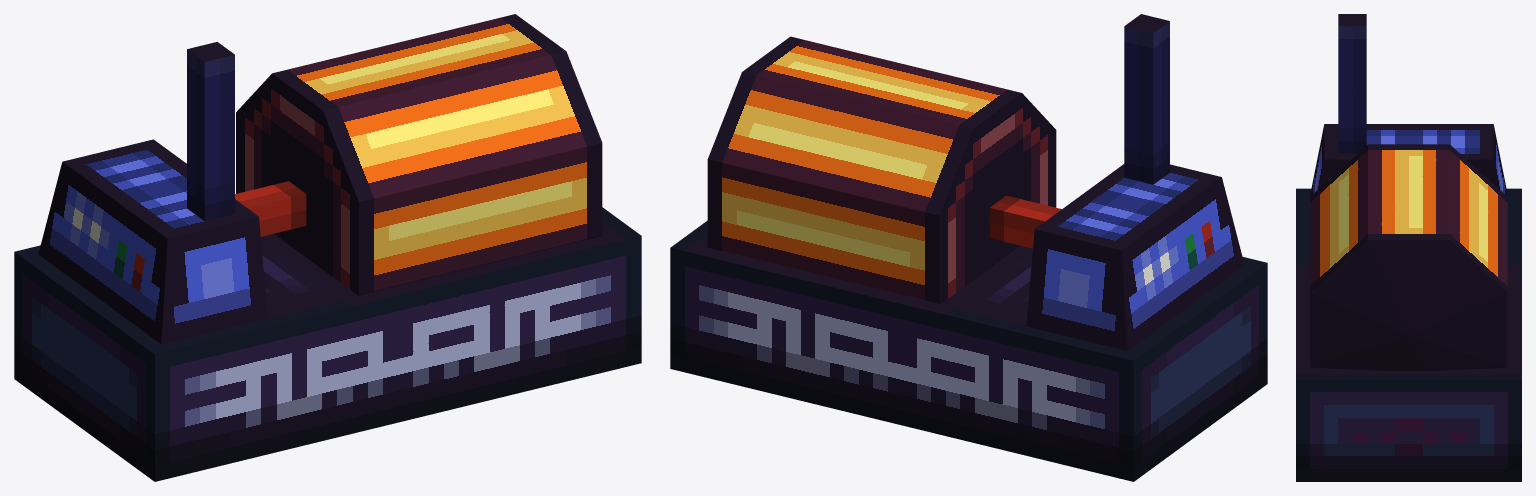
The model's file is generator_small.glb.
The picture shows the model from 3 angles, left to right: view 1: azimuth 30°, elevation 25°; view 2: azimuth 150°, elevation 25°; view 3: azimuth 270°, elevation 25°; orthographic projection. The views are drawn at different scales.
Visible parts, largest first — view 1: base_2, barrel_0, cpanel_3, exaust_5, feed_4; view 2: base_2, barrel_0, cpanel_3, exaust_5, feed_4; view 3: barrel_0, base_2, cpanel_3, exaust_5.
Part boxes in pixels (<box>): base_2: <box>14,207,641,481</box>; barrel_0: <box>236,14,602,295</box>; cpanel_3: <box>38,139,267,344</box>; exaust_5: <box>187,42,234,221</box>; feed_4: <box>235,181,306,236</box>; base_2: <box>670,220,1267,481</box>; barrel_0: <box>707,36,1056,304</box>; cpanel_3: <box>1026,164,1244,350</box>; exaust_5: <box>1124,14,1169,184</box>; feed_4: <box>989,195,1061,248</box>; barrel_0: <box>1310,144,1507,370</box>; base_2: <box>1296,188,1521,481</box>; cpanel_3: <box>1310,124,1507,196</box>; exaust_5: <box>1338,14,1366,153</box>.
Bounding box in the file's own units: 2 × 1.5 × 1.
1 material, 1 textured.
